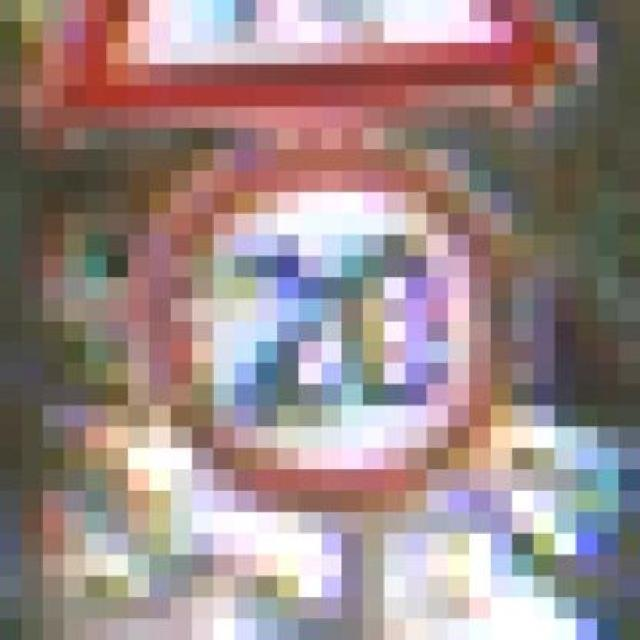forb_speed_over_20: (166, 146, 511, 505)
